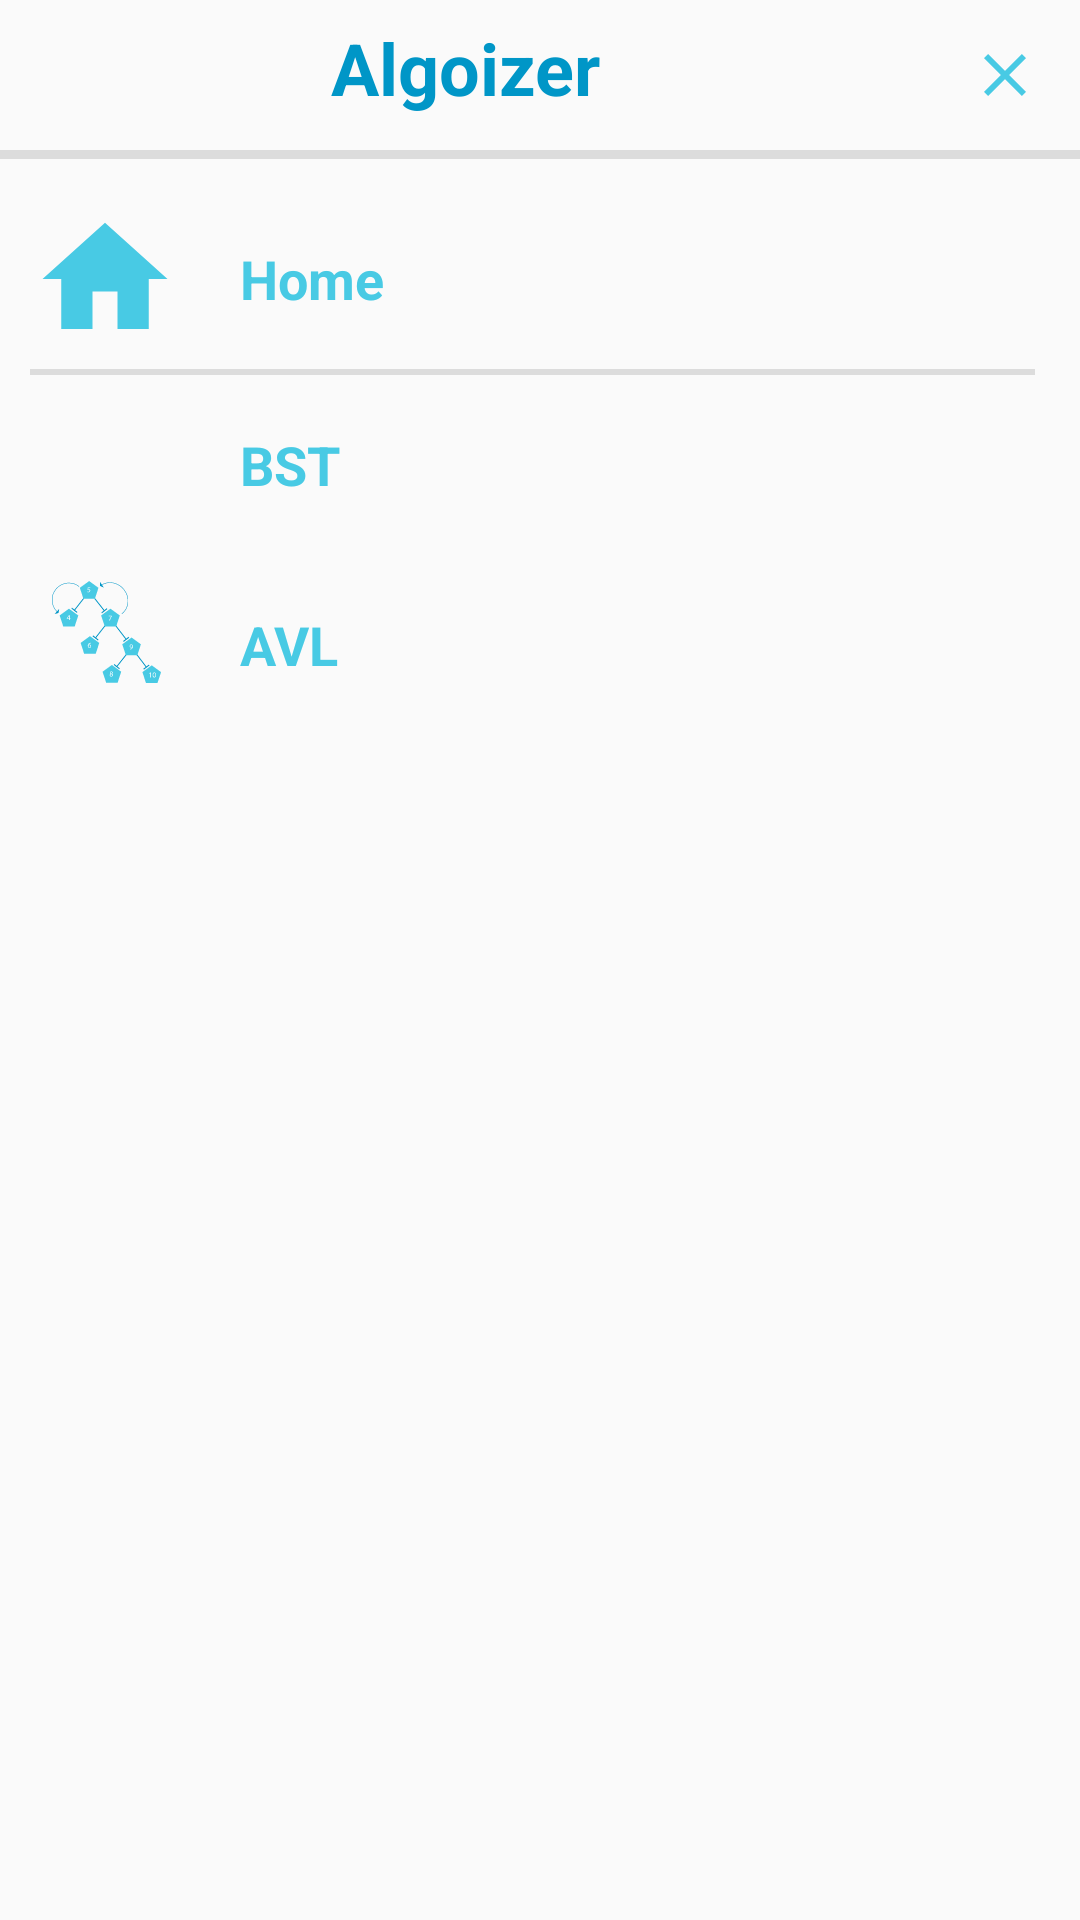

Screen size 1080*1920. Icon name, then its box in pixels as (x1,y1,x2,y2):
close: (984,54,1026,96)
